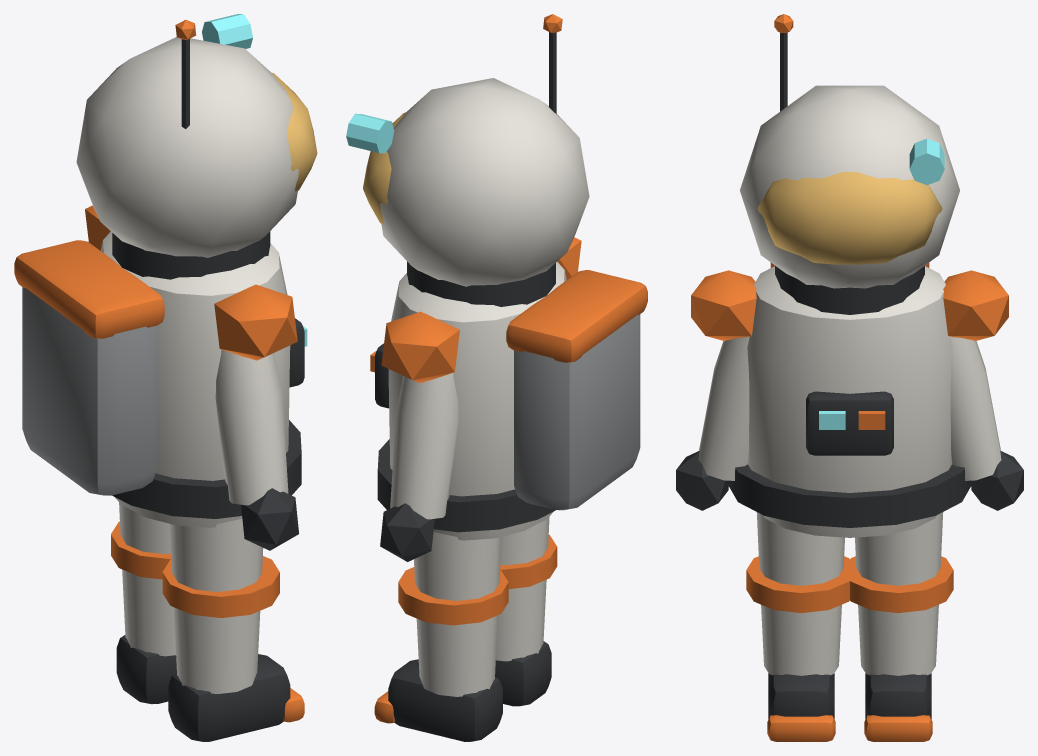
File: human.gltf
The picture shows the model from 3 angles, left to right: view 1: azimuth 30°, elevation 25°; view 2: azimuth 150°, elevation 25°; view 3: azimuth 270°, elevation 25°; orthographic projection. The views are drawn at different scales.
Visible parts, largest first — view 1: Astronaut; view 2: Astronaut; view 3: Astronaut.
Boxes of the visible parts, left/top/right/bottom form: Astronaut: left=14, top=14, right=317, bottom=741; Astronaut: left=346, top=14, right=647, bottom=741; Astronaut: left=676, top=14, right=1023, bottom=741.
Bounding box in the file's own units: 0.2423 × 0.684 × 0.3156.
